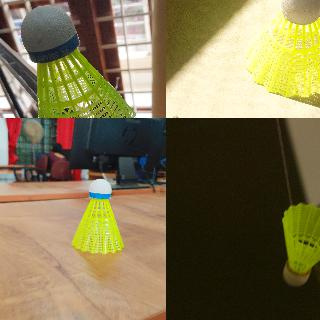shuttlecock: (20, 6, 137, 117), (245, 0, 319, 98), (72, 178, 124, 254), (280, 202, 319, 286)
